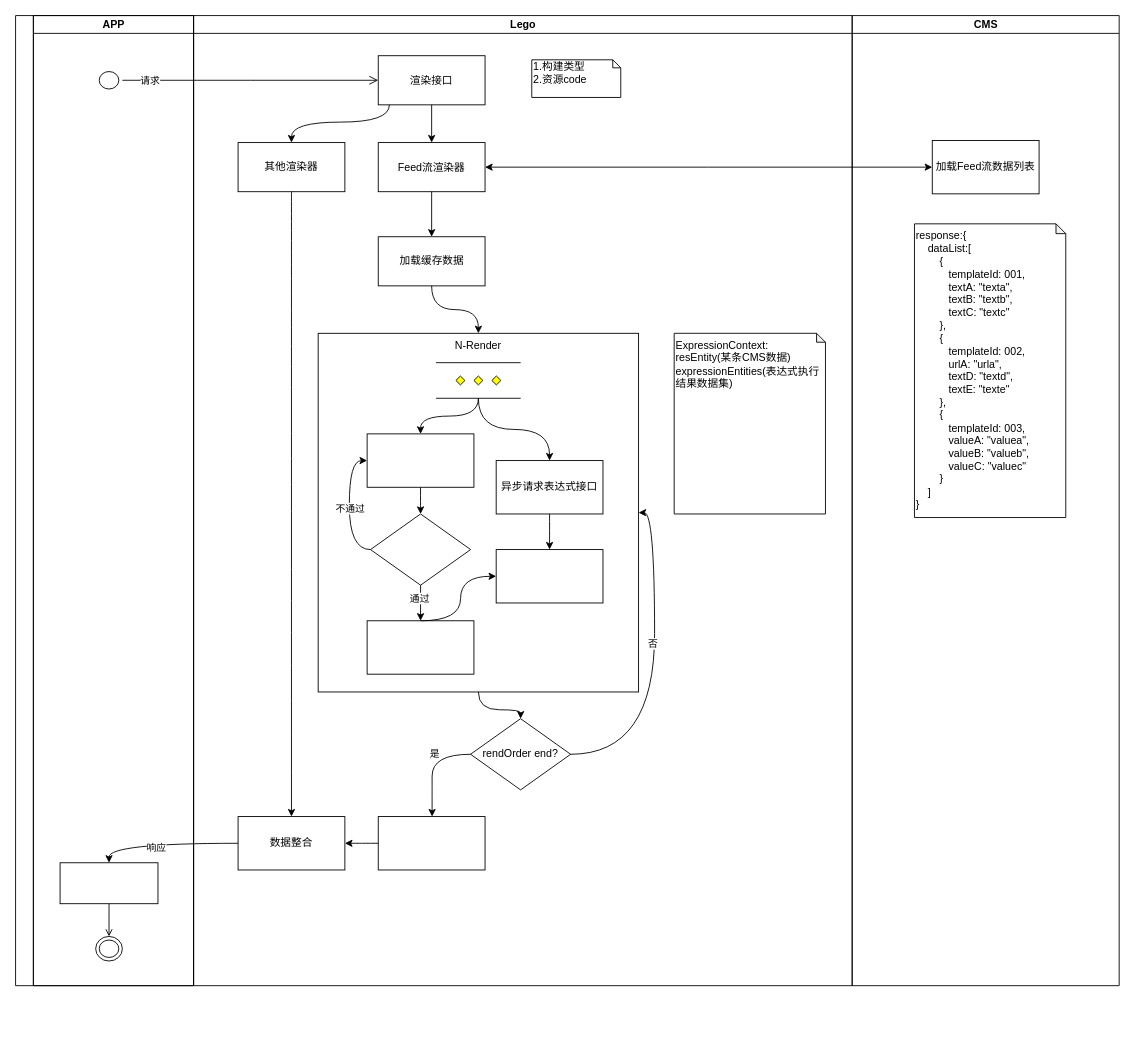
The diagram is 1135 pixels wide and 1037 high, and some of its shapes have lost their labels. Each missing label, with the box of its shape:
ExpressionContext: (495, 549, 603, 603)
Feed流请求渲染流程: (15, 15, 194, 986)
循环获取TemplateMetaData TreeNode: (366, 433, 474, 487)
执行校验规则: (370, 513, 471, 585)
执行规则: (377, 816, 485, 870)
组装数据 执行表达式: (366, 620, 474, 674)
页面渲染: (59, 862, 158, 904)
